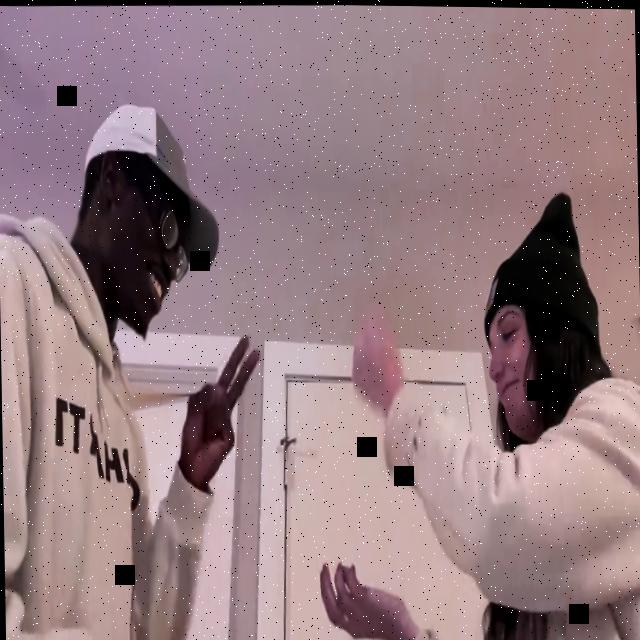Rock: (347, 311, 398, 412)
Scissors: (180, 330, 261, 483)
